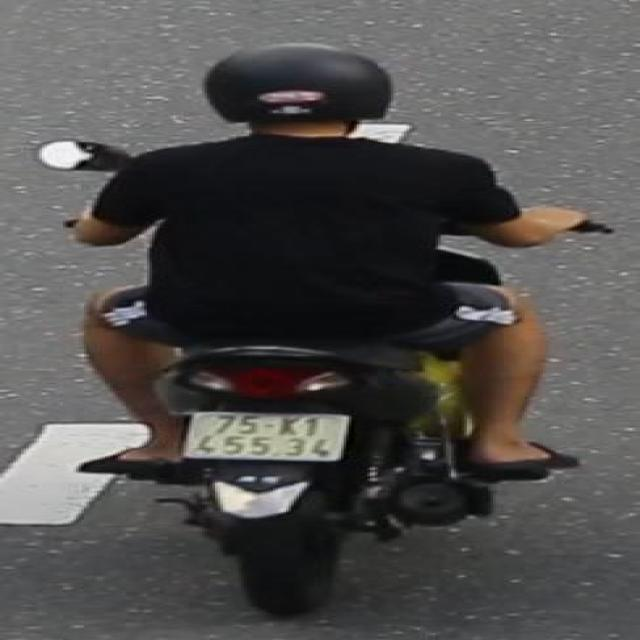LP: (180, 406, 355, 463)
helmet: (192, 39, 402, 147)
